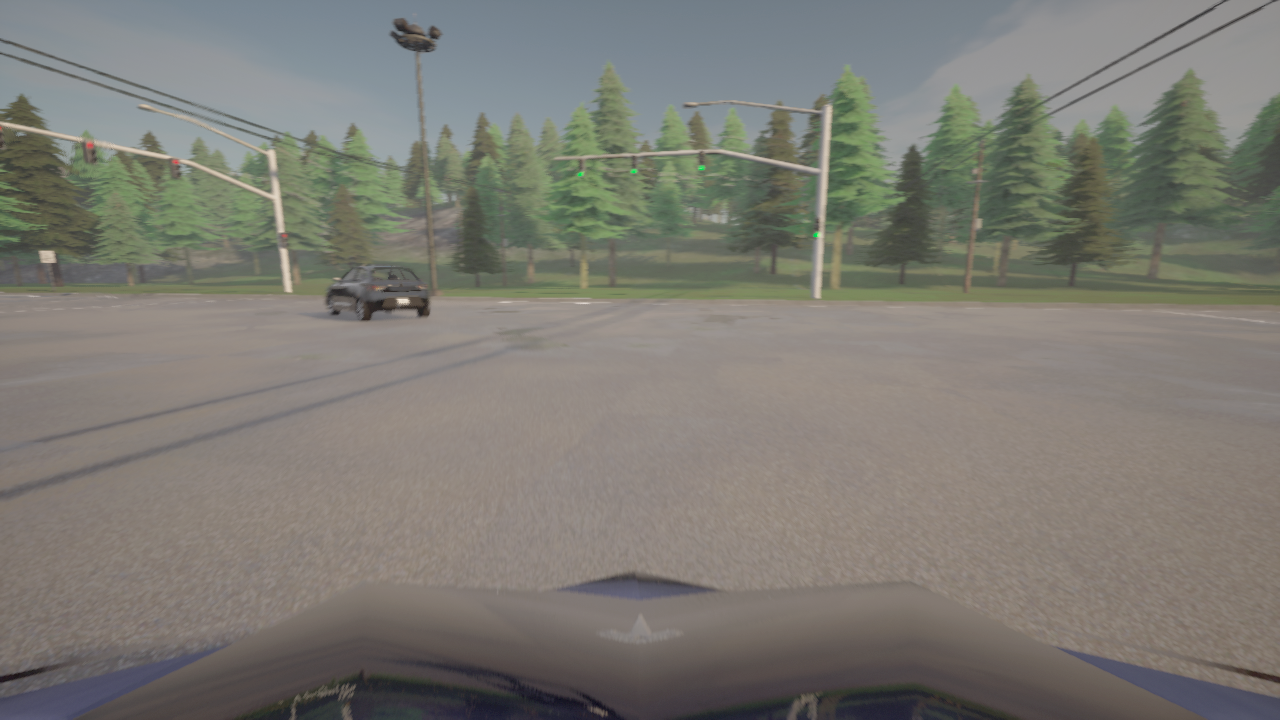cyclist: (0, 569, 1279, 719), (325, 264, 431, 321)
